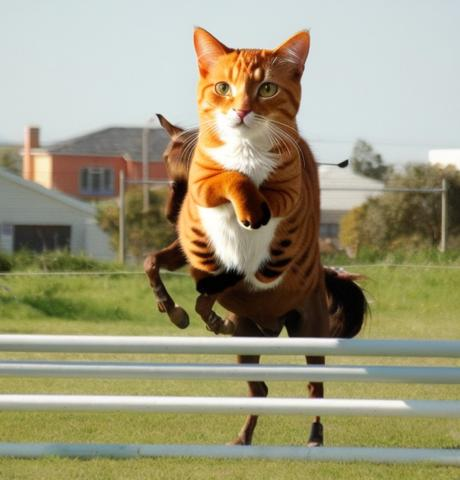cat: (175, 25, 321, 293)
horse: (143, 114, 372, 447)
